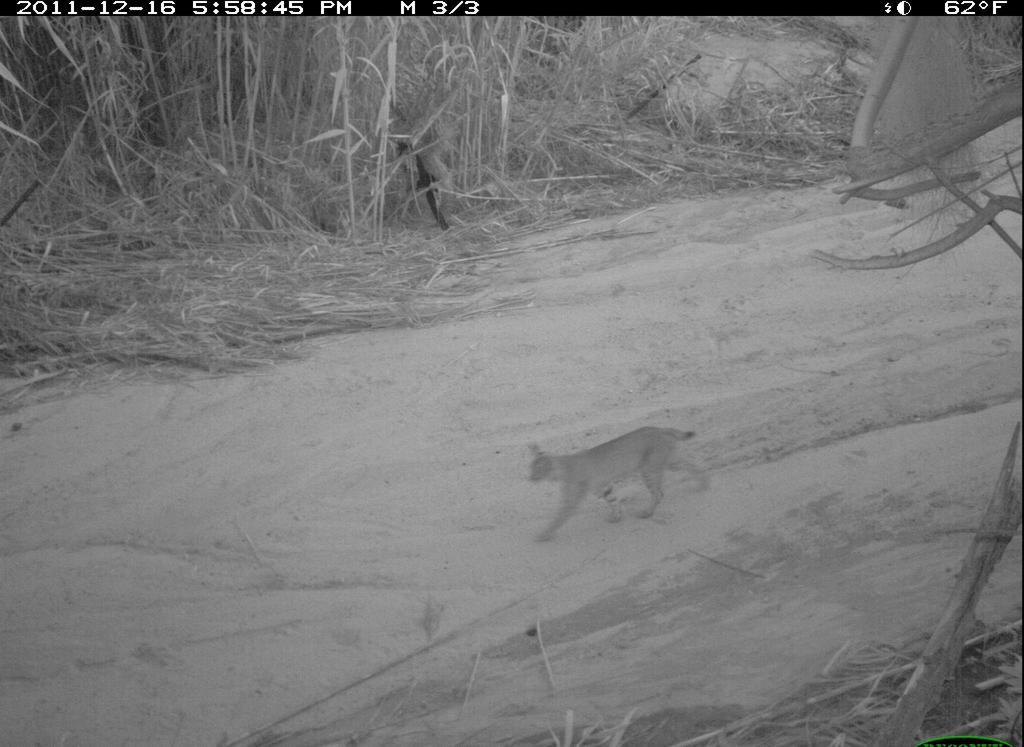bobcat: (521, 419, 715, 546)
